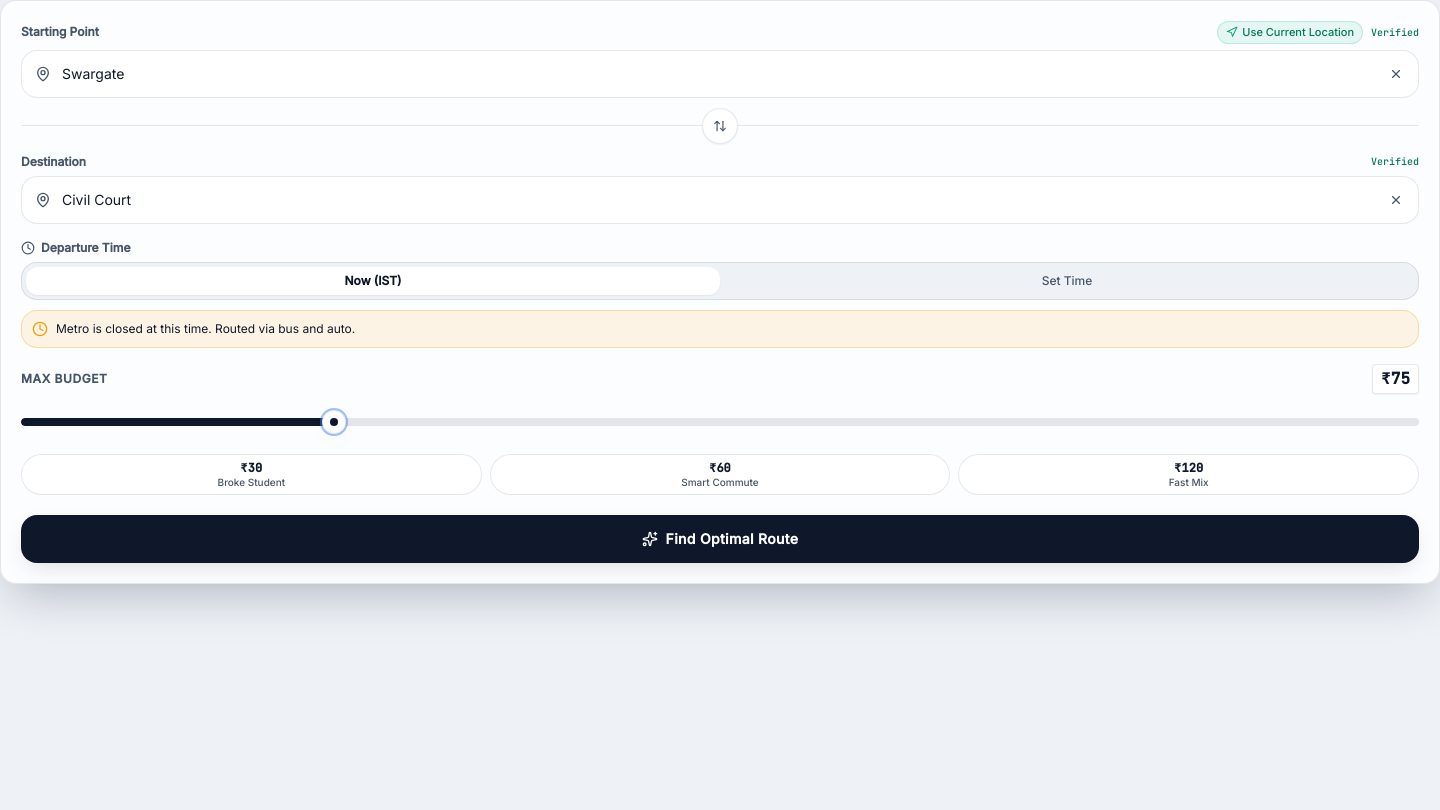
Test: Dock Component › handles 429 Rate Limit with friendly message
Click the button "Find Optimal Route".
click(720, 539)  # box [21, 515, 1419, 563]
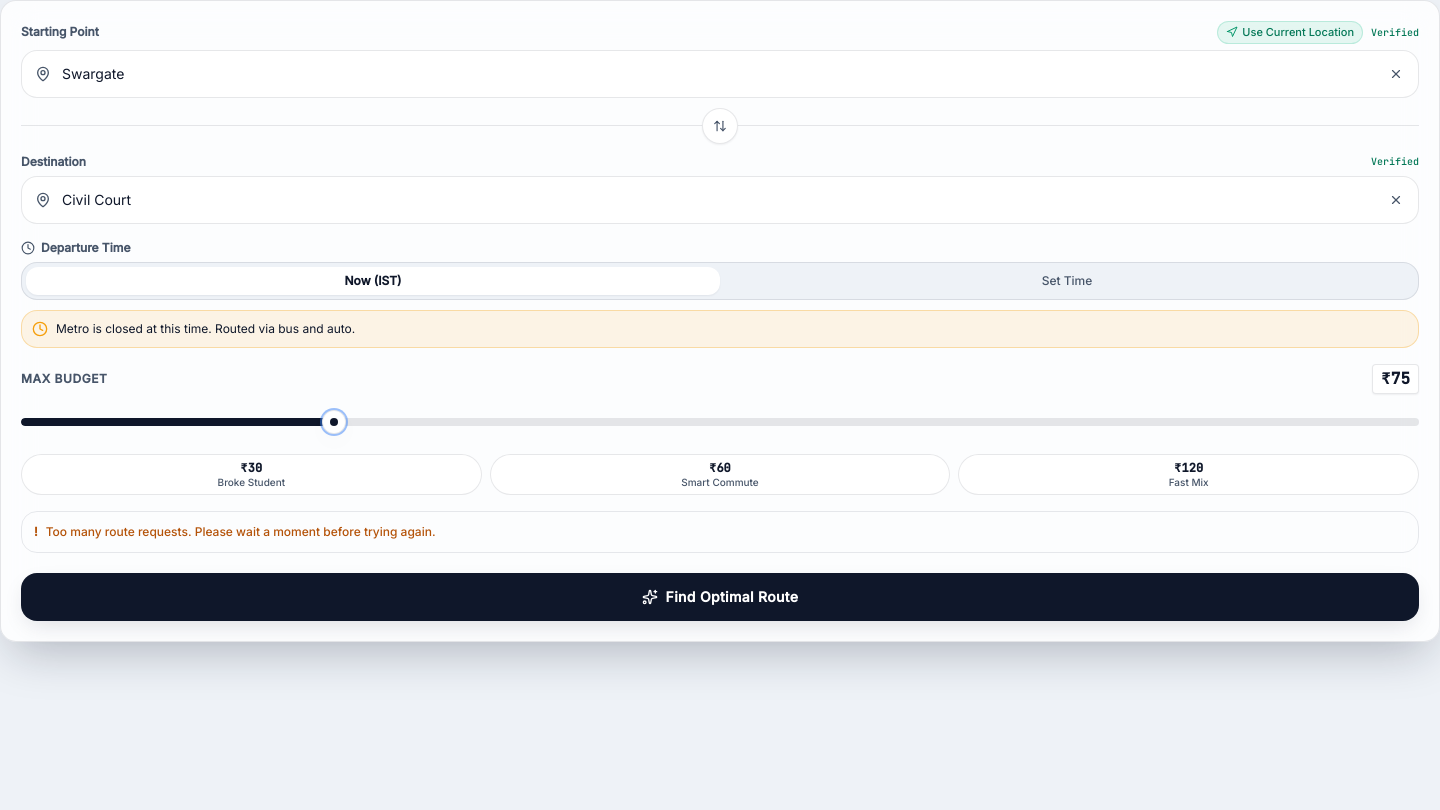
Now the text "Too many route requests. Please wait a moment before trying again." is shown, box [46, 524, 436, 540]
